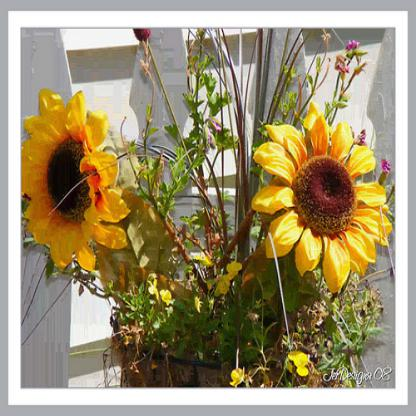SUN FLOWER: (229, 41, 392, 299), (18, 62, 158, 272)
